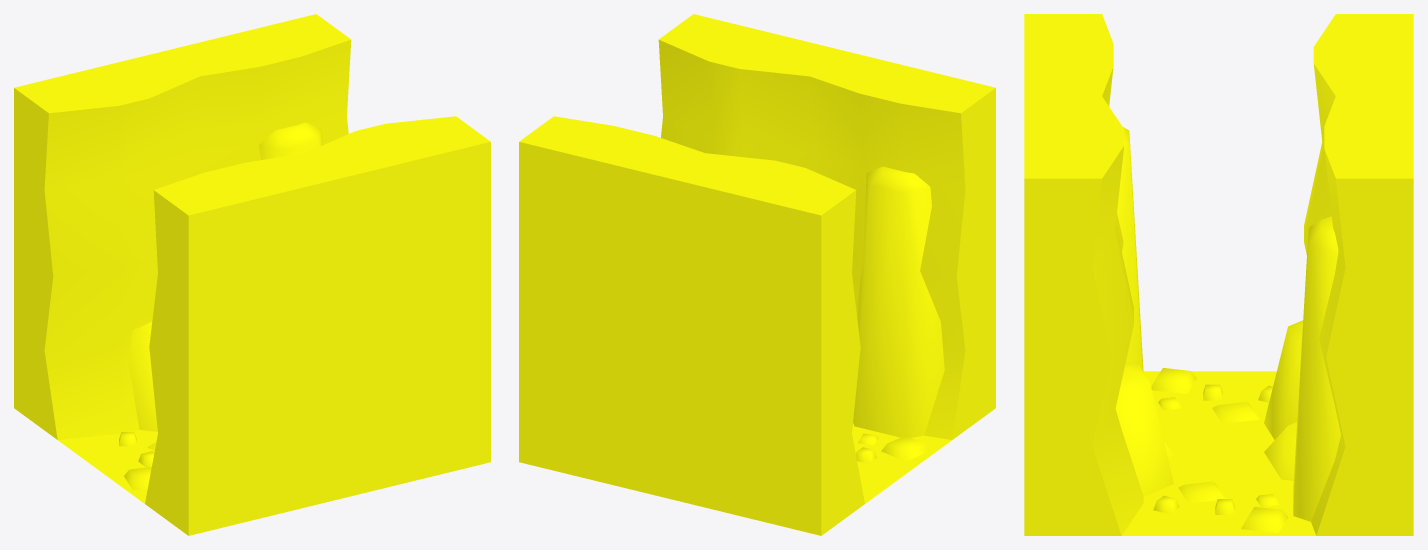
Rendered from 建筑构件_走廊.glb.
3 views of the same model, side by side, from view 1: azimuth 30°, elevation 25°; view 2: azimuth 150°, elevation 25°; view 3: azimuth 270°, elevation 25° (orthographic). The views are drawn at different scales.
Parts seen in each view (by area): view 1: corridor; view 2: corridor; view 3: corridor.
Boxes of the visible parts, x1,y1,x2,y2 form: corridor: (14, 14, 490, 535); corridor: (519, 14, 995, 535); corridor: (1024, 14, 1413, 535).
Bounding box in the file's own units: 4 × 4.05 × 4.
Materials: 1 (1 with a texture image).
